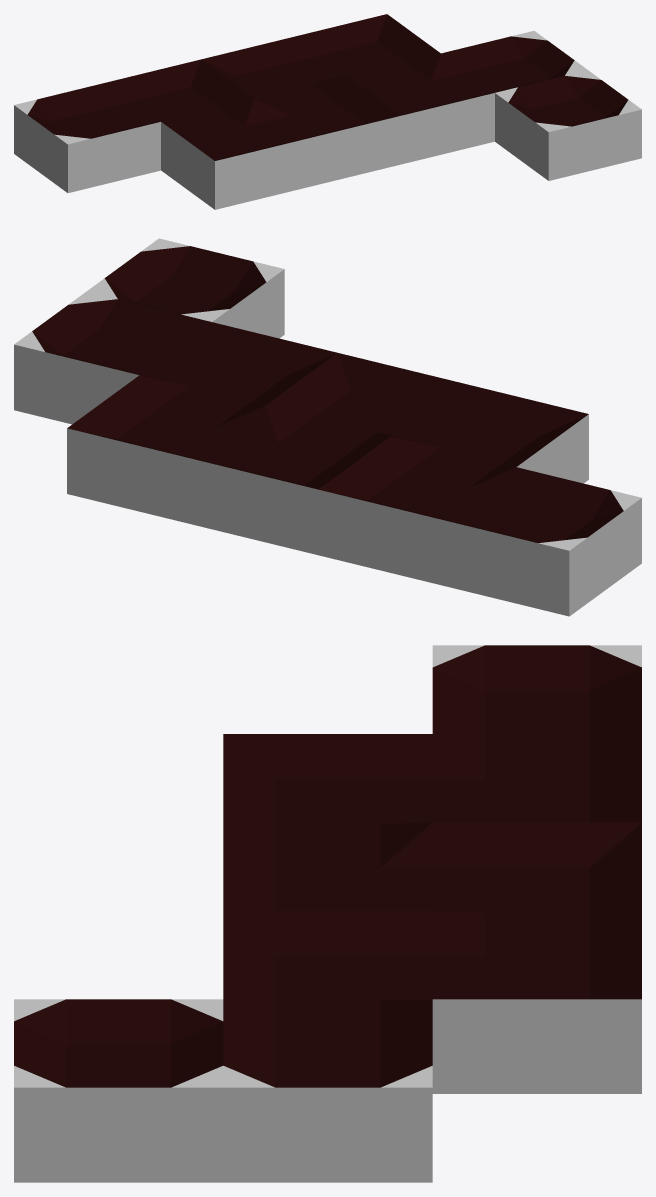
File: 32f_path.obj
The picture shows the model from 3 angles, top to bottom: view 1: azimuth 30°, elevation 25°; view 2: azimuth 150°, elevation 25°; view 3: azimuth 270°, elevation 25°; orthographic projection. The views are drawn at different scales.
Visible parts, largest first — view 1: foil.hole.4.2_Cube.215, foil.ending.0.4_ending.427, foil.corner.1.3_corner.1059, foil.corner.2.3_corner.1061, foil.corner.3.3_corner.1063, foil.corner.3.4_corner.1064, foil.corner.1.4_corner.1060, foil.ending.4.3_ending.428, foil.corner.2.4_corner.1062; view 2: foil.ending.0.4_ending.427, foil.corner.1.4_corner.1060, foil.corner.3.4_corner.1064, foil.ending.4.3_ending.428, foil.corner.2.4_corner.1062, foil.corner.1.3_corner.1059, foil.hole.4.2_Cube.215, foil.corner.2.3_corner.1061, foil.corner.3.3_corner.1063; view 3: foil.hole.4.2_Cube.215, foil.ending.4.3_ending.428, foil.corner.3.4_corner.1064, foil.corner.3.3_corner.1063, foil.ending.0.4_ending.427, foil.corner.2.4_corner.1062, foil.corner.1.3_corner.1059, foil.corner.1.4_corner.1060, foil.corner.2.3_corner.1061.
Boxes of the visible parts, x1,y1,x2,y2 form: foil.hole.4.2_Cube.215: (495,70,641,180); foil.ending.0.4_ending.427: (14,82,160,192); foil.corner.1.3_corner.1059: (161,99,308,209); foil.corner.2.3_corner.1061: (254,76,401,186); foil.corner.3.3_corner.1063: (348,54,494,164); foil.corner.3.4_corner.1064: (294,14,440,82); foil.corner.1.4_corner.1060: (107,59,253,127); foil.ending.4.3_ending.428: (441,31,587,94); foil.corner.2.4_corner.1062: (201,37,346,105); foil.ending.0.4_ending.427: (444,467,641,616); foil.corner.1.4_corner.1060: (318,436,515,585); foil.corner.3.4_corner.1064: (67,375,264,524); foil.ending.4.3_ending.428: (14,291,211,424); foil.corner.2.4_corner.1062: (192,406,389,554); foil.corner.1.3_corner.1059: (391,383,588,483); foil.hole.4.2_Cube.215: (87,238,284,338); foil.corner.2.3_corner.1061: (265,353,462,445); foil.corner.3.3_corner.1063: (140,322,337,414); foil.hole.4.2_Cube.215: (14,999,223,1182); foil.ending.4.3_ending.428: (223,999,432,1182); foil.corner.3.4_corner.1064: (432,911,641,1093); foil.corner.3.3_corner.1063: (223,910,432,1022); foil.ending.0.4_ending.427: (432,645,641,757); foil.corner.2.4_corner.1062: (432,822,641,934); foil.corner.1.3_corner.1059: (223,734,432,845); foil.corner.1.4_corner.1060: (432,734,641,822); foil.corner.2.3_corner.1061: (223,822,432,910).
Bounding box in the file's own units: 10 × 1 × 6.
